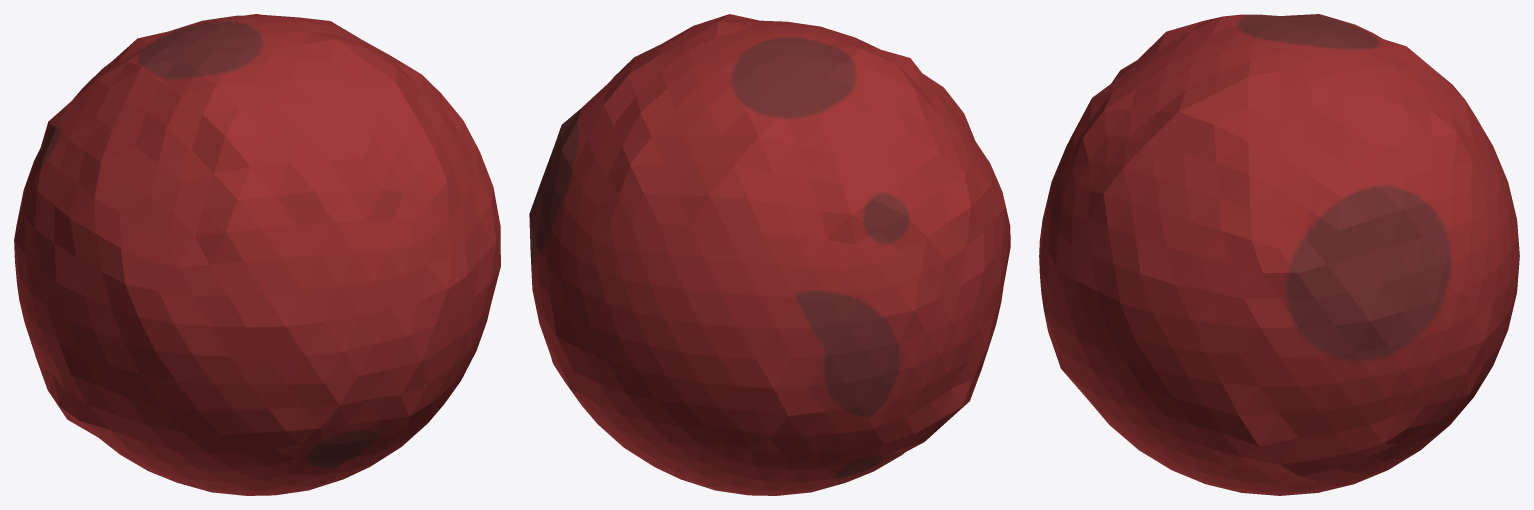
The model's file is red planet.fbx.
3 renders of one model, left to right at view 1: azimuth 30°, elevation 25°; view 2: azimuth 150°, elevation 25°; view 3: azimuth 270°, elevation 25°, orthographic.
Parts seen in each view (by area): view 1: Icosphere; view 2: Icosphere; view 3: Icosphere.
Part boxes in pixels (x1,y1,x2,y2): Icosphere: [14, 14, 500, 495]; Icosphere: [529, 14, 1010, 495]; Icosphere: [1039, 14, 1519, 495].
Size of the model in its own units: 200 by 200 by 200.
1 material, 1 textured.
